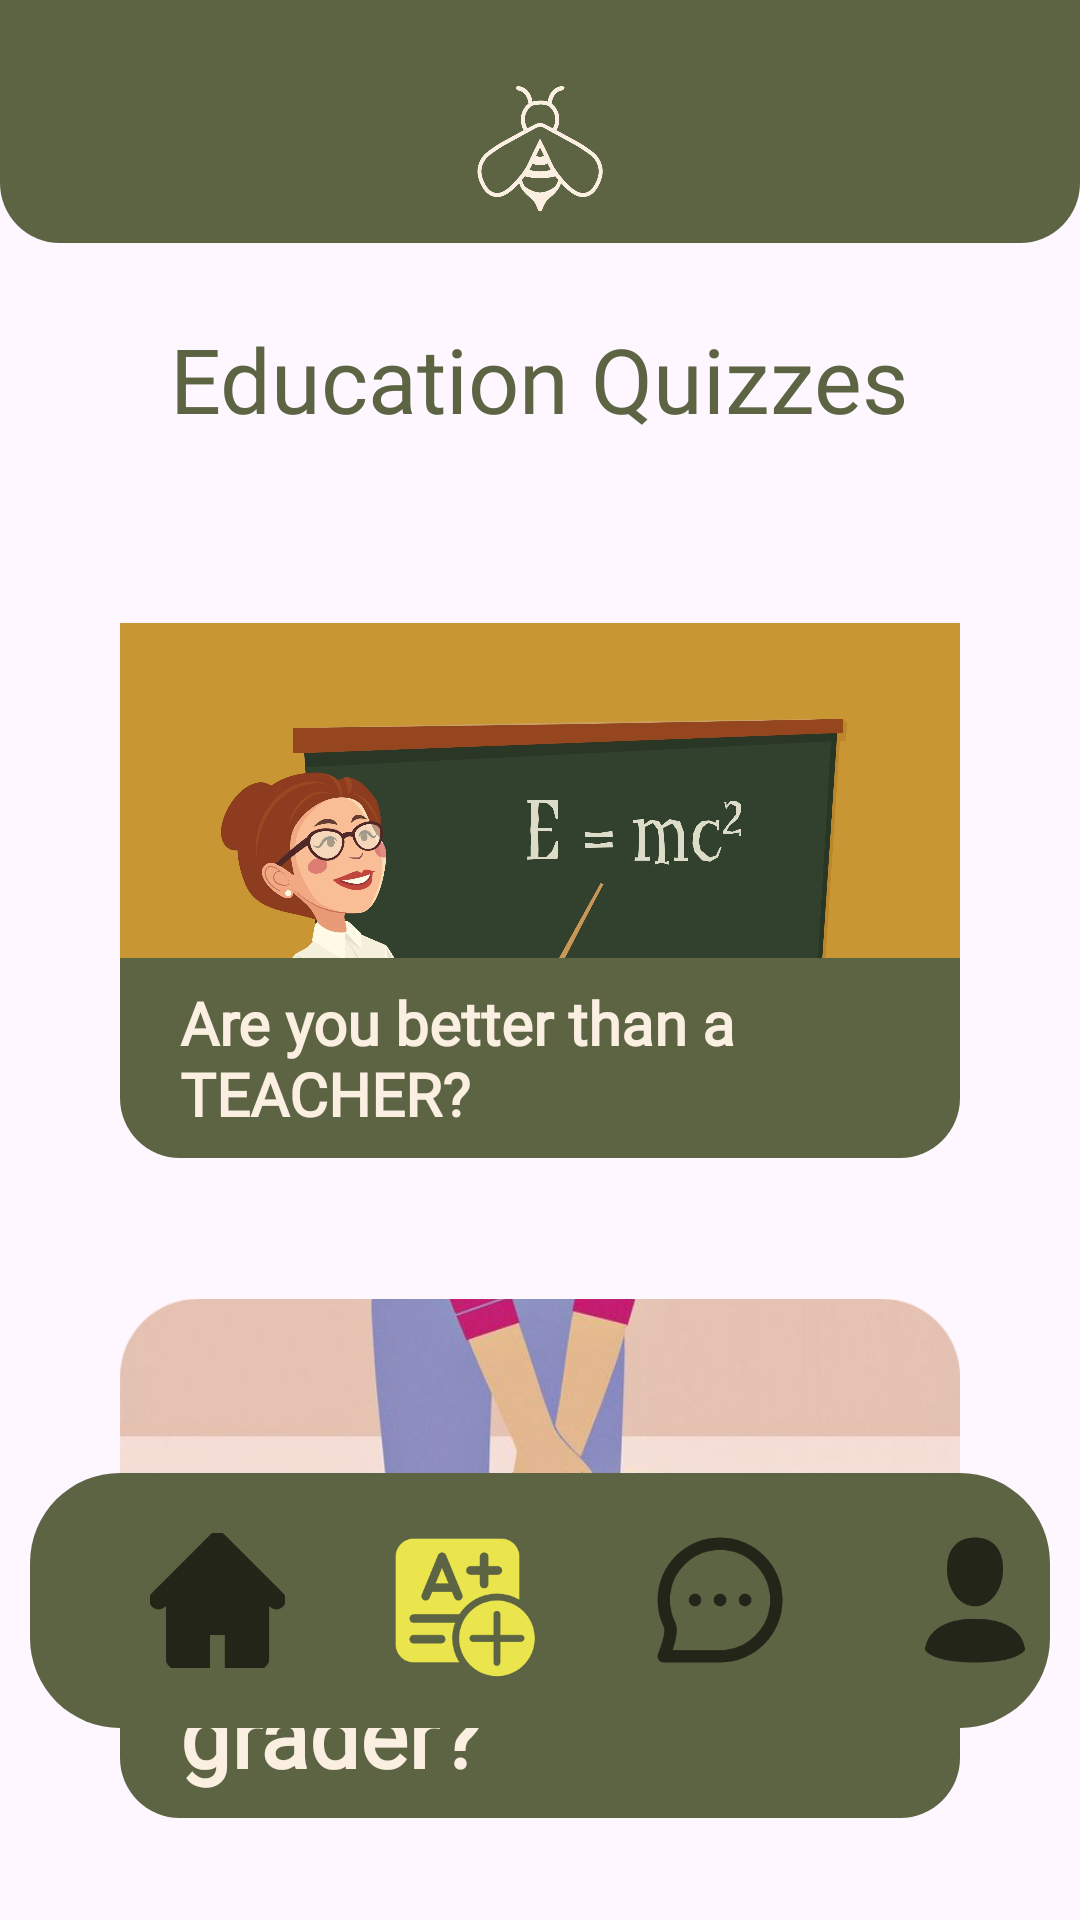

Where icons sit on this 1080x1920 app screen, as (x1, y1, x2, y2):
home: (150, 1533, 285, 1668)
messages: (657, 1537, 783, 1663)
profile: (925, 1537, 1025, 1663)
quiz: (395, 1538, 535, 1677)
